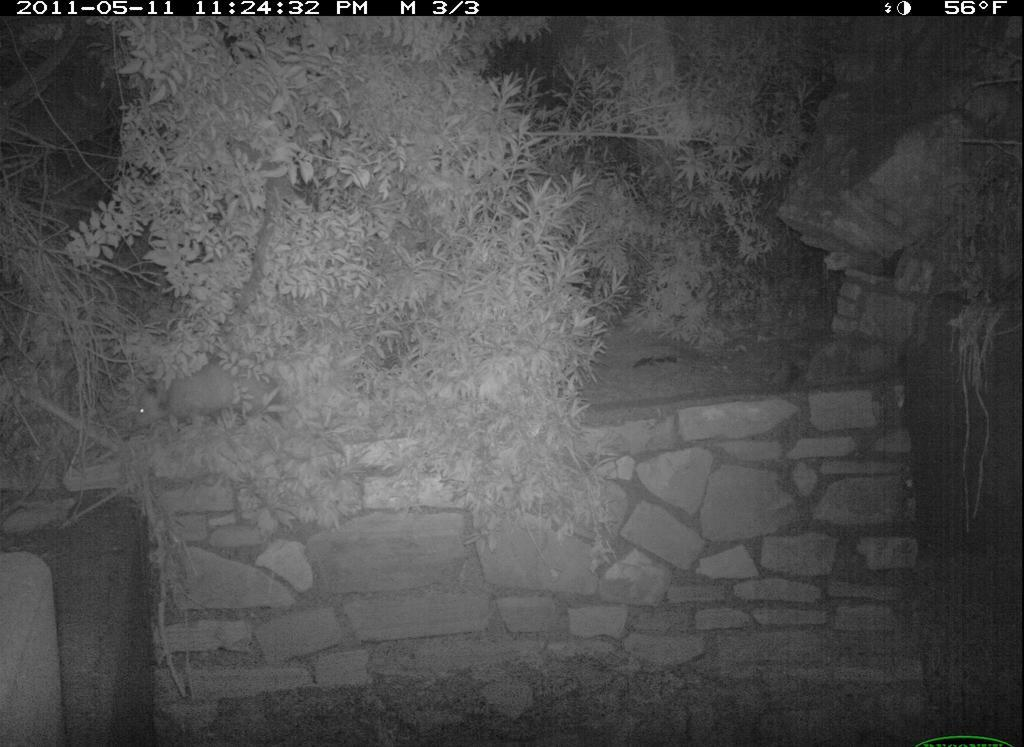opossum: (132, 353, 286, 429)
